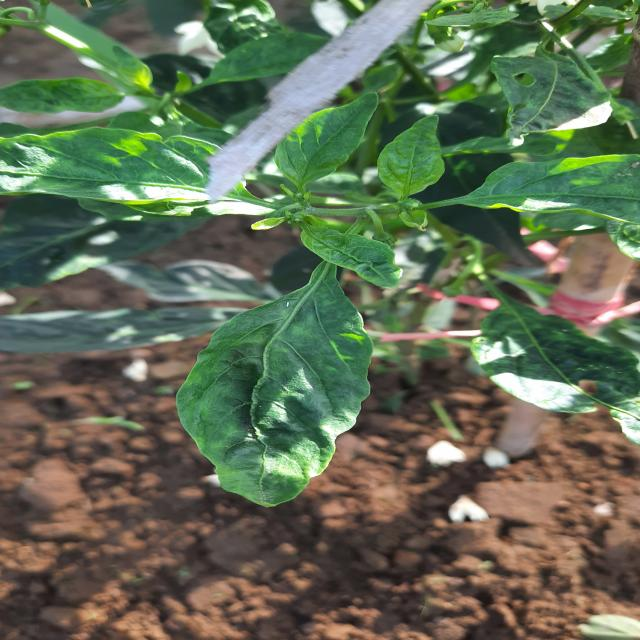thrips: (154, 280, 412, 518)
